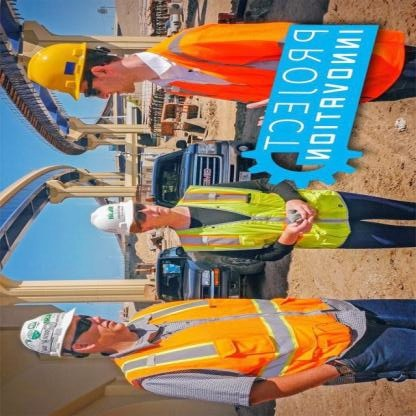vest: (138, 22, 402, 111), (115, 290, 330, 390), (174, 181, 358, 256)
white: (13, 307, 84, 361), (84, 197, 141, 235)
yellow: (23, 38, 90, 101)
